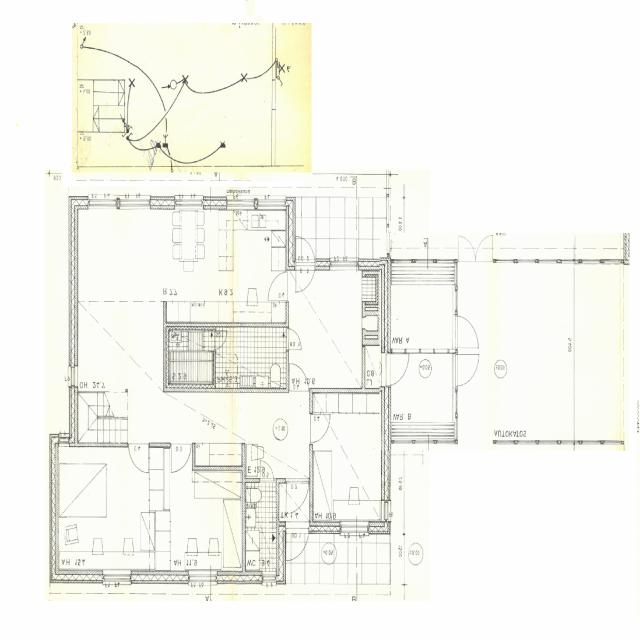door: (286, 521, 309, 566), (382, 355, 412, 386), (286, 478, 309, 516), (454, 316, 480, 348), (454, 354, 480, 386), (296, 257, 315, 298), (296, 229, 315, 270), (171, 443, 192, 476), (128, 442, 148, 476), (310, 414, 332, 443), (268, 272, 290, 299), (290, 361, 309, 392), (458, 233, 476, 261), (476, 233, 492, 261), (287, 328, 304, 350), (260, 458, 274, 482), (213, 330, 229, 350)
